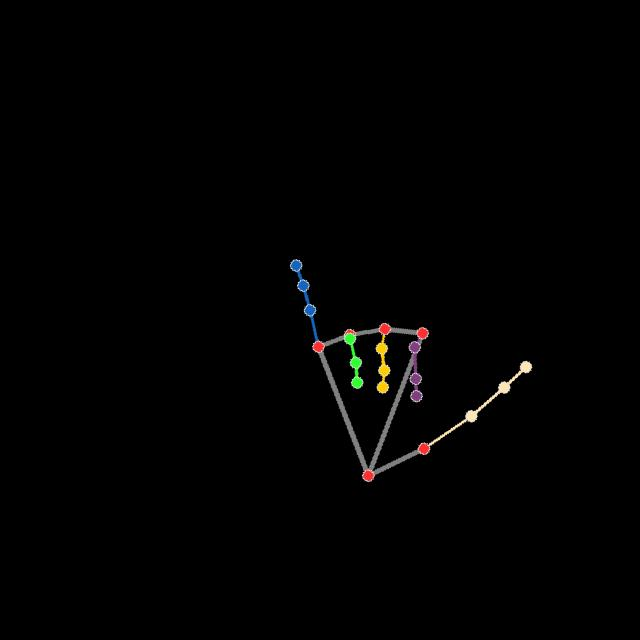skr: (285, 255, 533, 484)
